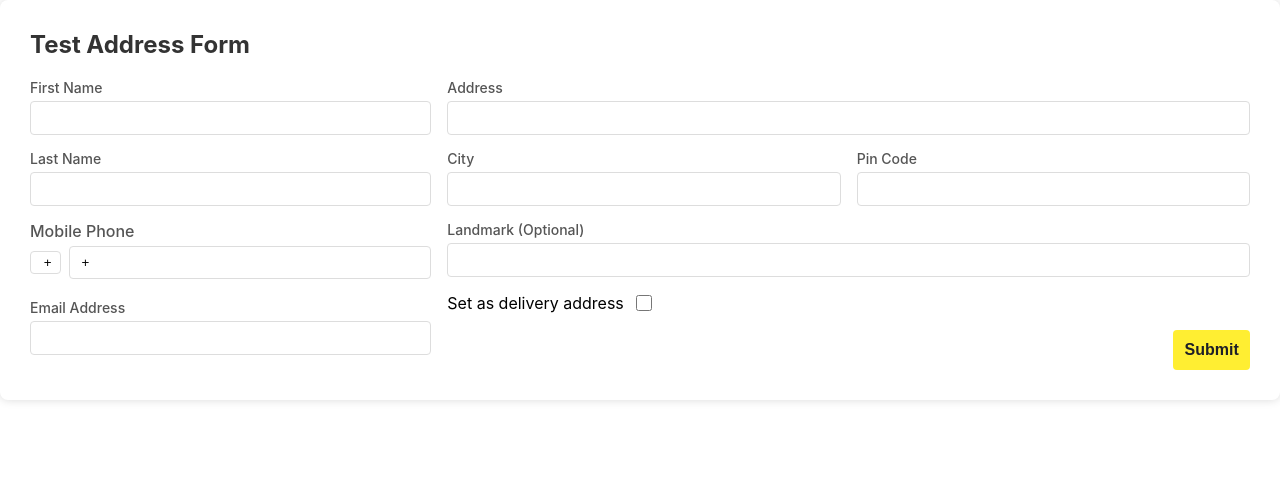
Test case: AddressForm - PAGE › shows validation errors when required fields are empty
The width and height of the screenshot is (1280, 504).
Click the button "Submit". click: (1212, 350)
box: [1173, 330, 1250, 370]
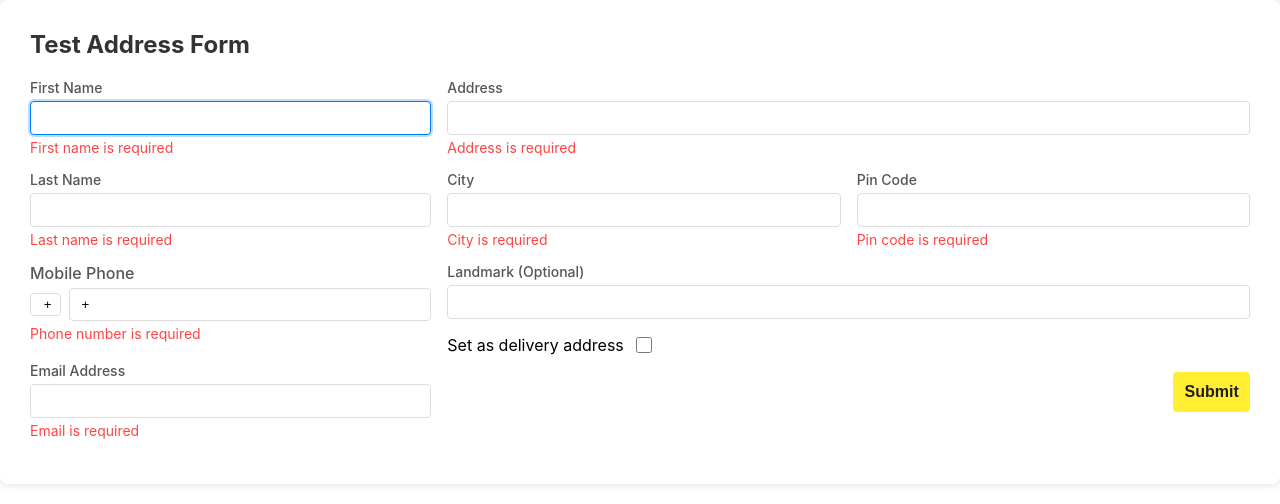
Expected: the text "First name is required" is shown, [30, 139, 173, 156]
Expected: the text "Last name is required" is shown, [30, 231, 172, 248]
Expected: the text "Phone number is required" is shown, [30, 325, 201, 342]
